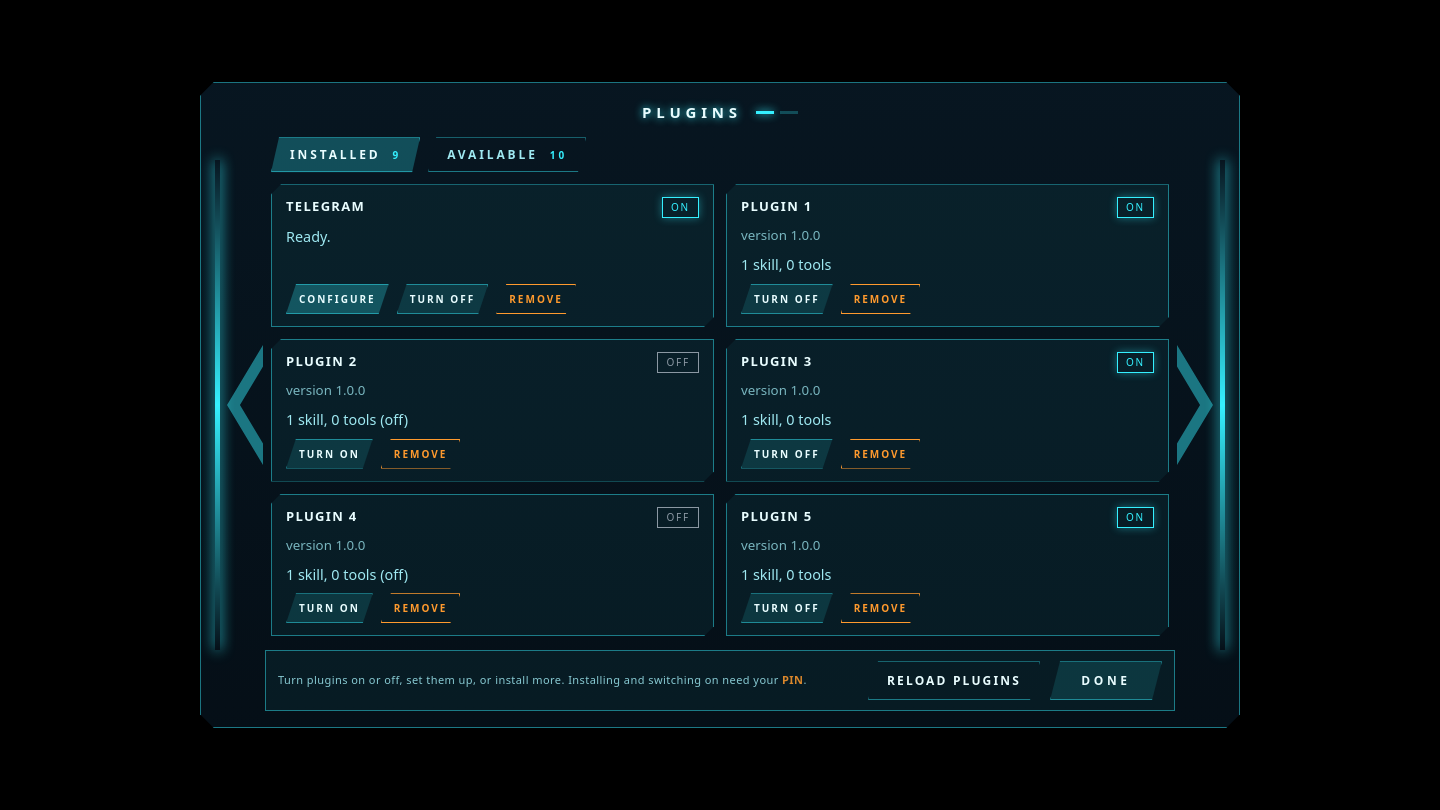
Test: plugins in the glass panel › switches between Installed and Available, starting again from the first page
The width and height of the screenshot is (1440, 810).
Click the button with aria-label "Next page".
click(1195, 405)  # box [1169,335,1221,475]
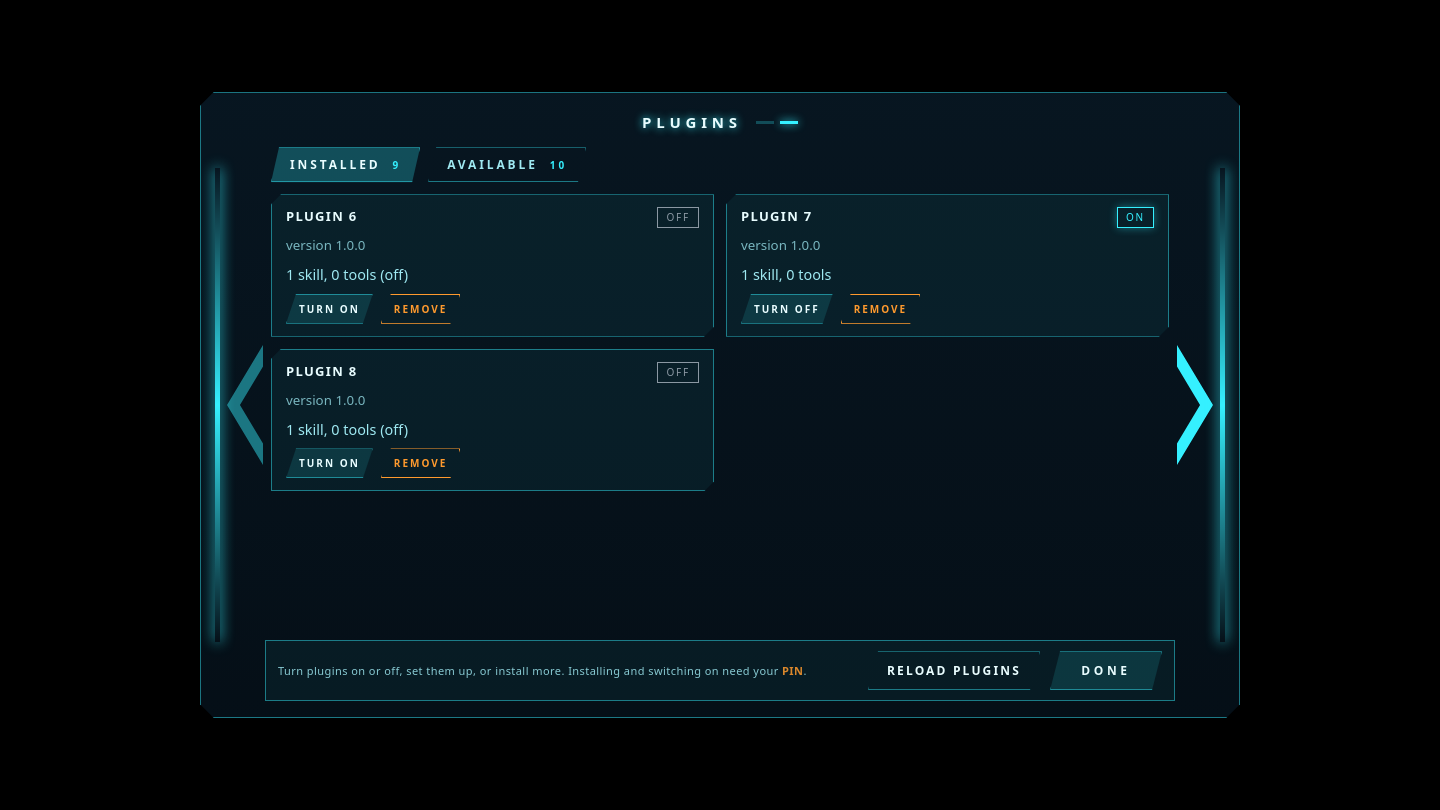
Click the tab "Available 10".
click(507, 165)  # box [428,147,586,182]
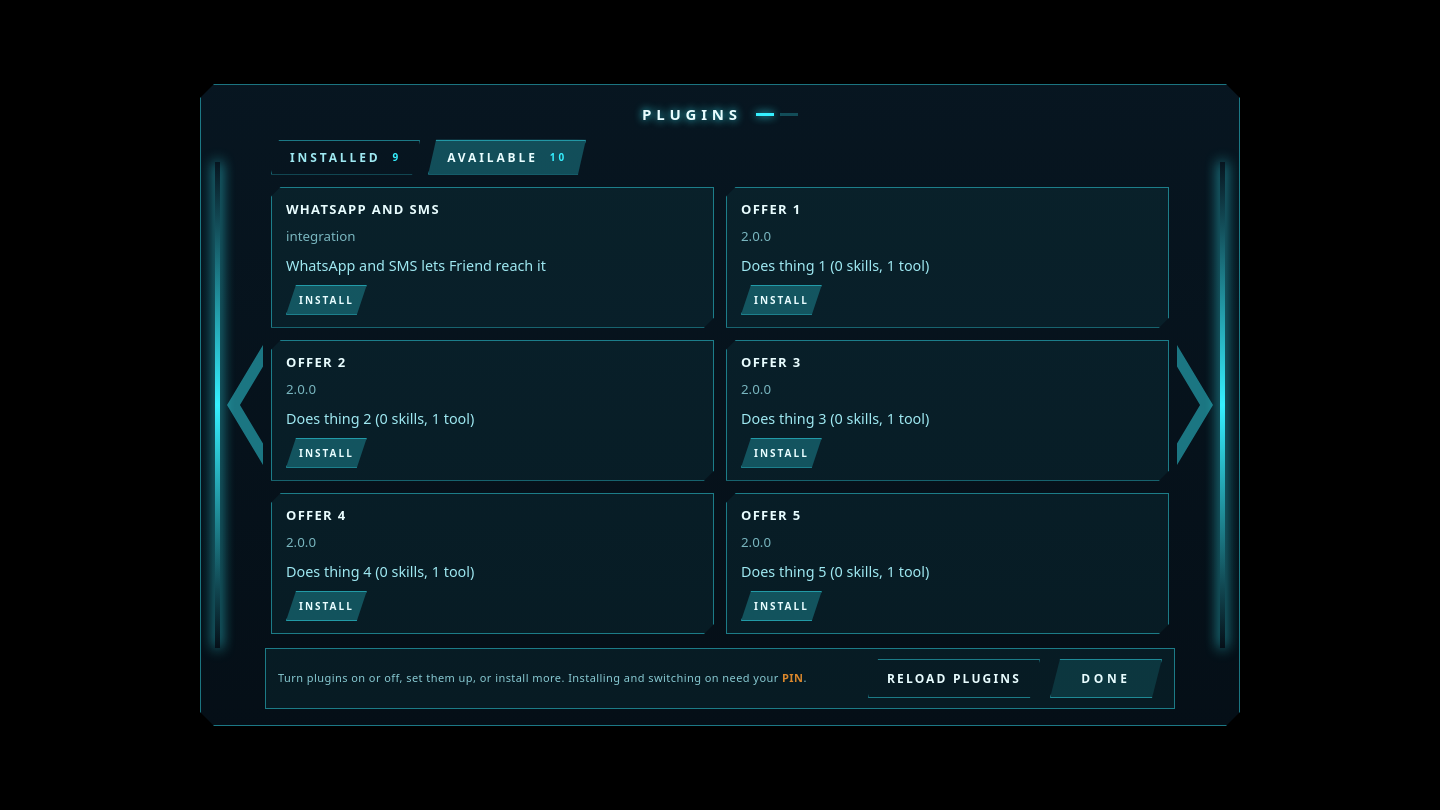
Result: the text "WhatsApp and SMS" is shown at [286,200,440,219]
Result: the button "Install" below "integration" is shown at [286,285,367,315]
